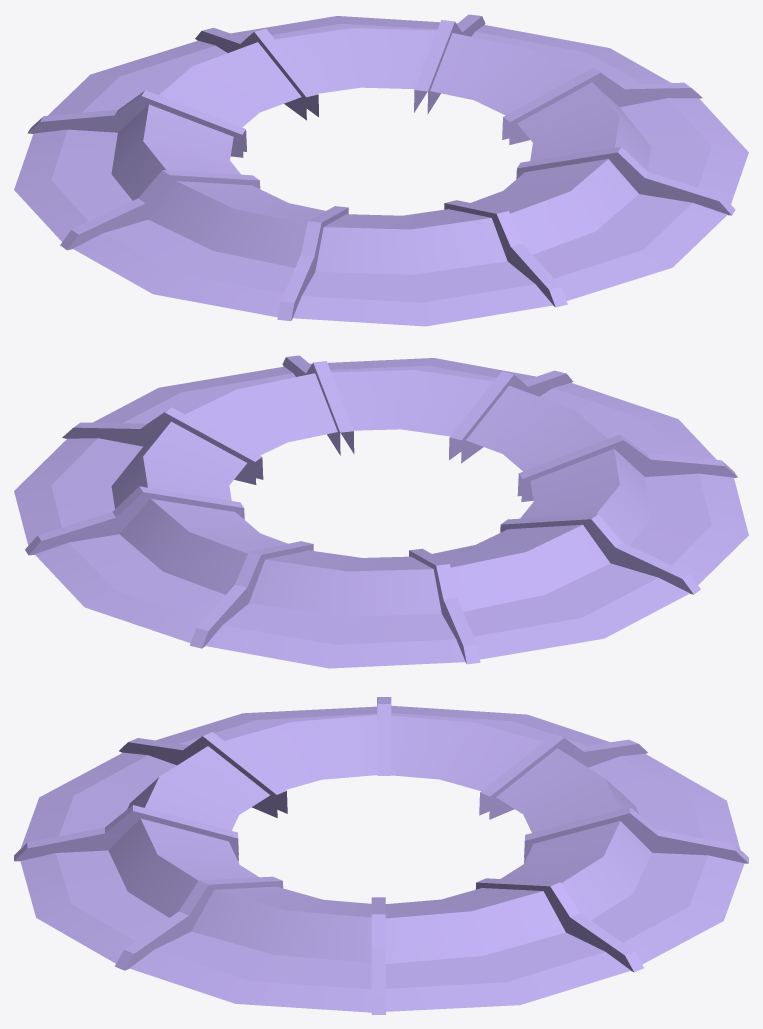
3 renders of one model, top to bottom at view 1: azimuth 30°, elevation 25°; view 2: azimuth 150°, elevation 25°; view 3: azimuth 270°, elevation 25°, orthographic.
Visible parts, largest first — view 1: Object42; view 2: Object42; view 3: Object42.
Boxes of the visible parts, x1=… form: Object42: x1=14, y1=14, x2=748, y2=326; Object42: x1=14, y1=355, x2=748, y2=668; Object42: x1=14, y1=697, x2=748, y2=1014.
Bounding box in the file's own units: 756 × 57.32 × 756.
